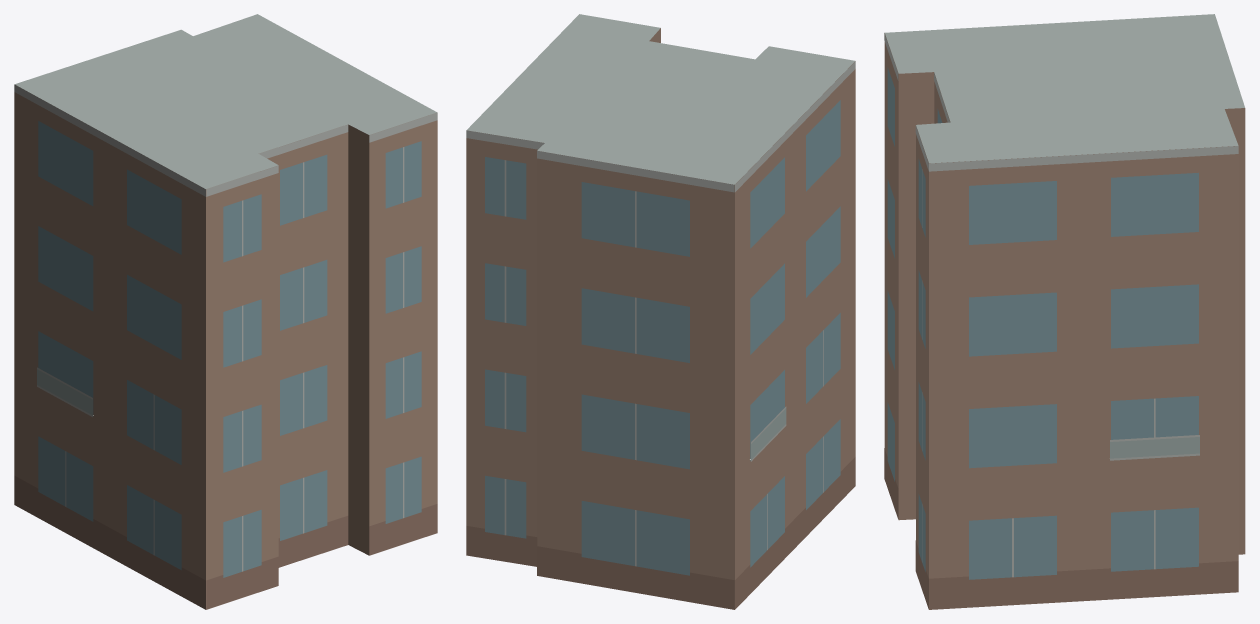
File: survey-upis-32543038.glb
3 views of the same model, side by side, from view 1: azimuth 30°, elevation 25°; view 2: azimuth 150°, elevation 25°; view 3: azimuth 270°, elevation 25° (orthographic). The views are drawn at different scales.
Visible parts, largest first — view 1: survey-upis-32543038.tmp; view 2: survey-upis-32543038.tmp; view 3: survey-upis-32543038.tmp.
Part boxes in pixels (x1=…): survey-upis-32543038.tmp: x1=14, y1=14, x2=437, y2=609; survey-upis-32543038.tmp: x1=466, y1=14, x2=855, y2=609; survey-upis-32543038.tmp: x1=884, y1=14, x2=1245, y2=609.
Size of the model in its own units: 9.59 by 13.35 by 9.78.
